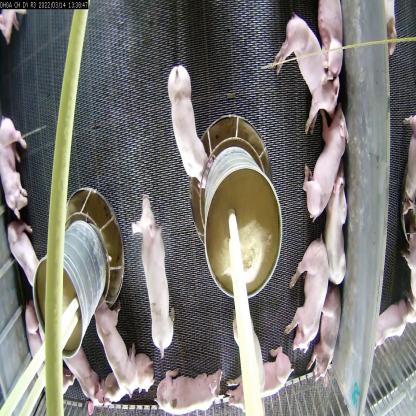Pig: (126, 179, 180, 365), (274, 15, 340, 131), (160, 63, 218, 194), (90, 296, 156, 411), (297, 99, 348, 223), (22, 305, 78, 404), (221, 346, 295, 413), (285, 232, 325, 354), (0, 107, 35, 226), (323, 163, 354, 291), (310, 286, 348, 388), (57, 336, 105, 416), (230, 313, 268, 406), (156, 364, 226, 414), (3, 218, 45, 294), (312, 0, 348, 86), (368, 293, 416, 356), (377, 0, 406, 62), (400, 112, 416, 216), (399, 226, 416, 315), (0, 8, 30, 41)
